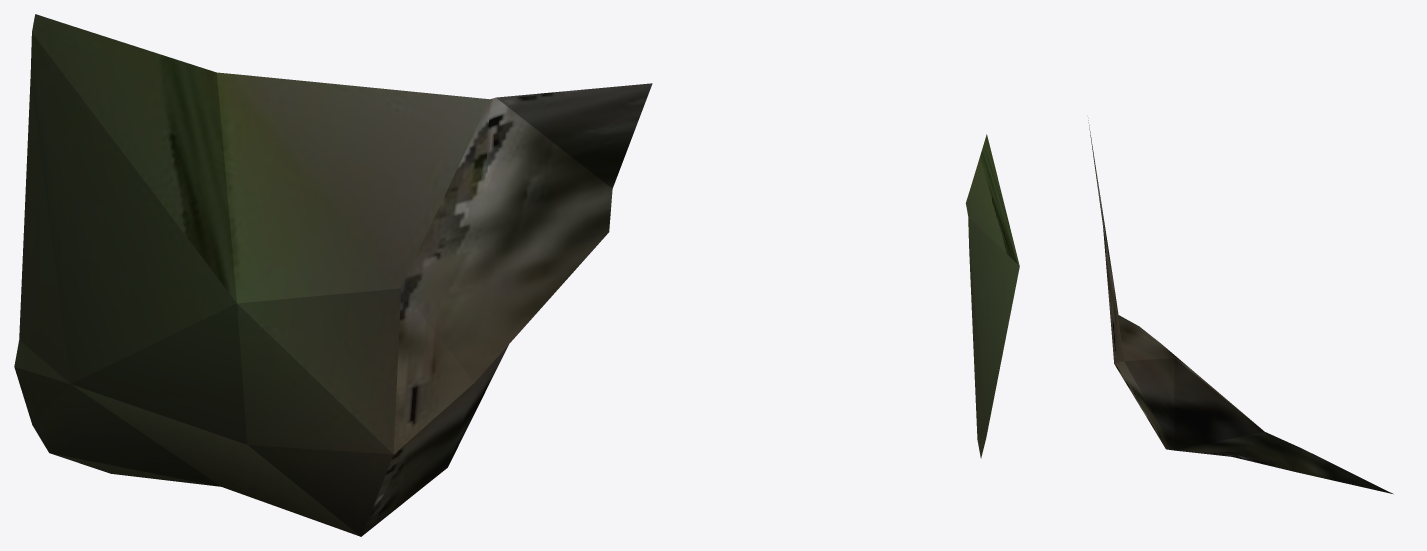
3 renders of one model, left to right at view 1: azimuth 30°, elevation 25°; view 2: azimuth 150°, elevation 25°; view 3: azimuth 270°, elevation 25°, orthographic. The views are drawn at different scales.
Size of the model in its own units: 0.3926 by 0.4486 by 0.371.
Materials: 1 (1 with a texture image).
